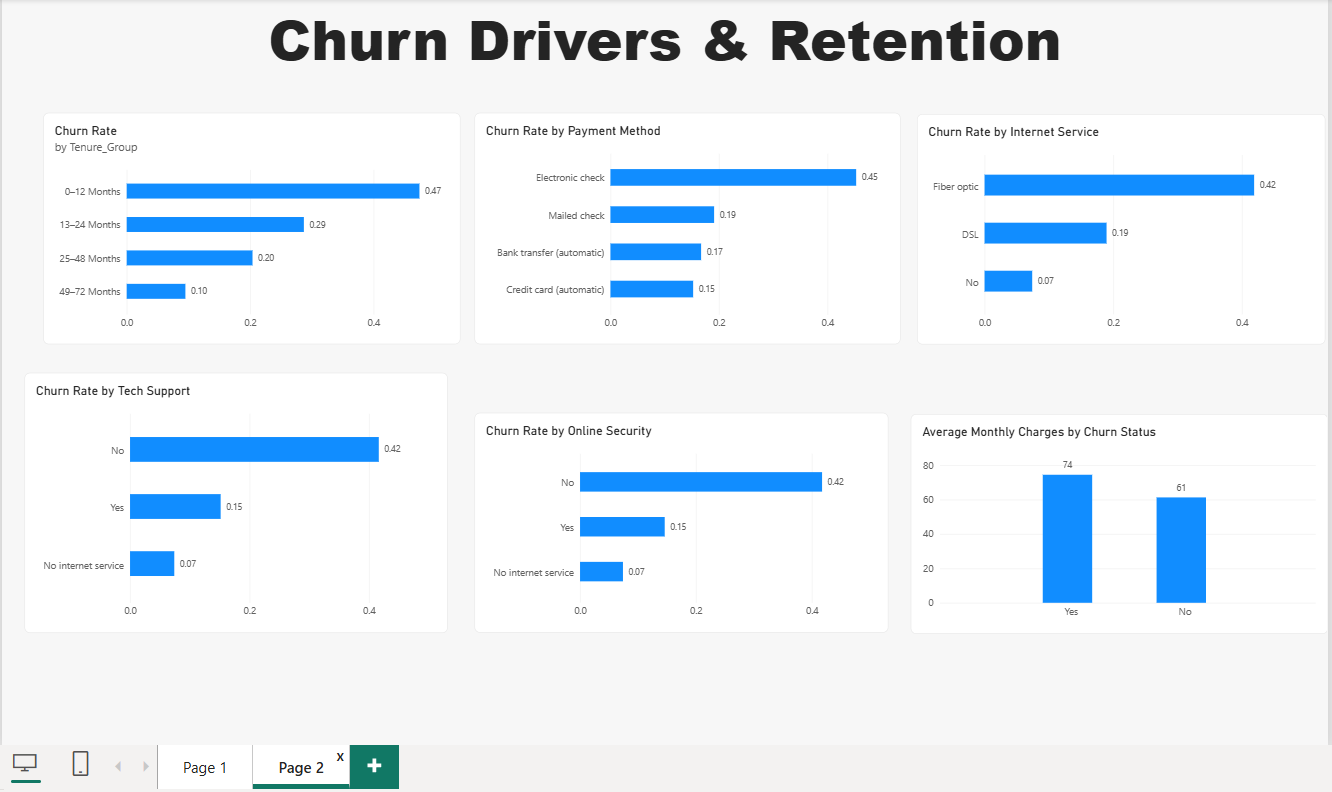

This screenshot's page, from the dashboard's own definition file:
{"tool":"powerbi","page":{"name":"Page 2","canvas":[1920,1080],"ordinal":1},"visuals":[{"type":"textbox","box":[0,0,1919.6,119],"z":0},{"type":"clusteredBarChart","fields":{"Category":["Cleaned_Data.Tenure_Group"],"Y":["Cleaned_Data.Churn Rate"]},"box":[60.6,164.5,603.8,335.4],"z":1},{"type":"clusteredBarChart","title":"Churn Rate by Payment Method","fields":{"Category":["Cleaned_Data.PaymentMethod"],"Y":["Cleaned_Data.Churn Rate"]},"box":[683.9,164.5,616.8,335.4],"z":2},{"type":"clusteredBarChart","title":"Churn Rate by Internet Service","fields":{"Category":["Cleaned_Data.InternetService"],"Y":["Cleaned_Data.Churn Rate"]},"box":[1324.5,166.6,590.8,333.3],"z":3},{"type":"clusteredBarChart","title":"Churn Rate by Tech Support","fields":{"Category":["Cleaned_Data.TechSupport"],"Y":["Cleaned_Data.Churn Rate"]},"box":[32.5,541,612.5,376.6],"z":4},{"type":"clusteredBarChart","title":"Churn Rate by Online Security","fields":{"Category":["Cleaned_Data.OnlineSecurity"],"Y":["Cleaned_Data.Churn Rate"]},"box":[683.9,599.5,599.5,318.1],"z":5},{"type":"clusteredColumnChart","title":"Average Monthly Charges by Churn Status","fields":{"Category":["Cleaned_Data.Churn"],"Y":["Avg(Cleaned_Data.MonthlyCharges)"]},"box":[1315.8,601.6,603.8,318.1],"z":6}]}

Visuals, with their boxes on the page's 1920x1080 design canvas (x1, y1, x2, y2). These are canvas units, not pixel positions in the 1332x792 screenshot, which may show the page scaled, cropped or inside an application window:
textbox: 0/0/1920/119
clusteredBarChart - Cleaned_Data.Tenure_Group x Cleaned_Data.Churn Rate: 61/164/664/500
"Churn Rate by Payment Method" clusteredBarChart: 684/164/1301/500
"Churn Rate by Internet Service" clusteredBarChart: 1324/167/1915/500
"Churn Rate by Tech Support" clusteredBarChart: 32/541/645/918
"Churn Rate by Online Security" clusteredBarChart: 684/600/1283/918
"Average Monthly Charges by Churn Status" clusteredColumnChart: 1316/602/1920/920
